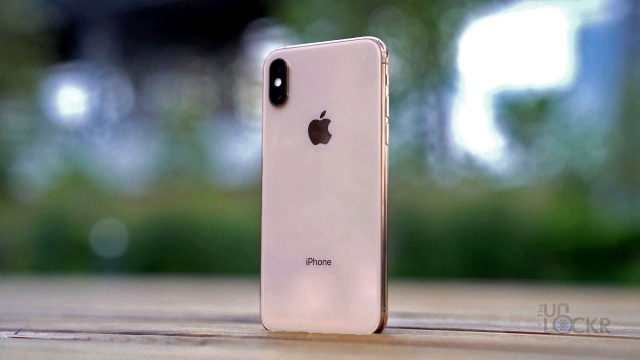apple: (296, 103, 337, 159)
